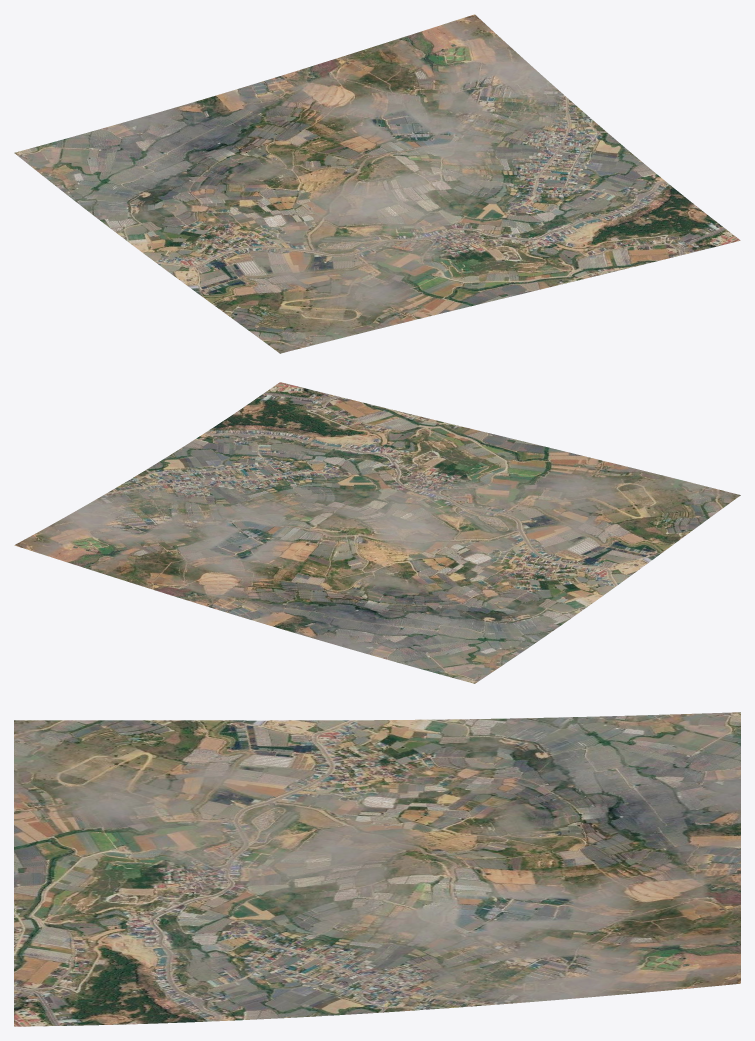
Rendered from terrain_real_T_W02_N04.glb.
3 renders of one model, top to bottom at view 1: azimuth 30°, elevation 25°; view 2: azimuth 150°, elevation 25°; view 3: azimuth 270°, elevation 25°, orthographic. The views are drawn at different scales.
Visible parts, largest first — view 1: Terrain_Real_DEM_T_W02_N04; view 2: Terrain_Real_DEM_T_W02_N04; view 3: Terrain_Real_DEM_T_W02_N04.
Part boxes in pixels (<box>): Terrain_Real_DEM_T_W02_N04: <box>14,14,740,353</box>; Terrain_Real_DEM_T_W02_N04: <box>14,382,740,683</box>; Terrain_Real_DEM_T_W02_N04: <box>14,712,740,1026</box>.
Size of the model in its own units: 2000 by 134 by 2000.
Materials: 1 (1 with a texture image).
